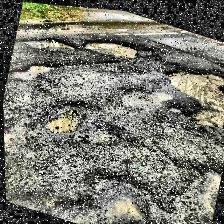pothole: (4, 130, 192, 224), (154, 52, 224, 132), (158, 148, 224, 224), (14, 25, 78, 61), (81, 28, 139, 64), (43, 98, 83, 140), (208, 50, 224, 74)
